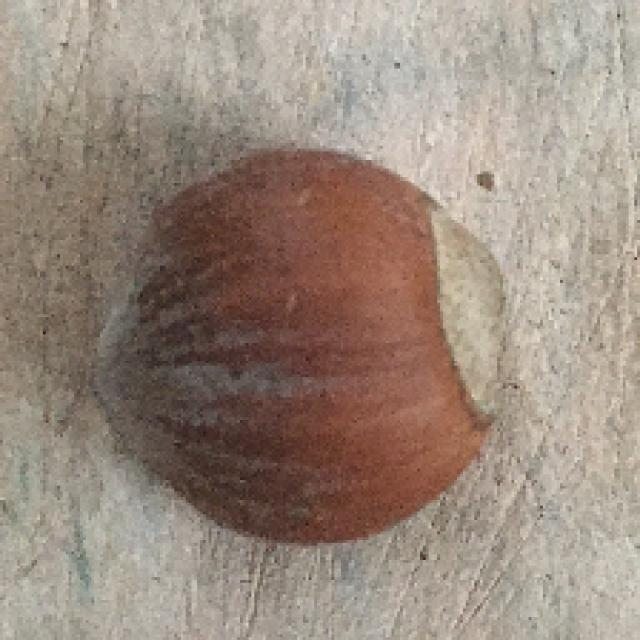qualityHazelnut: (84, 154, 526, 545)
